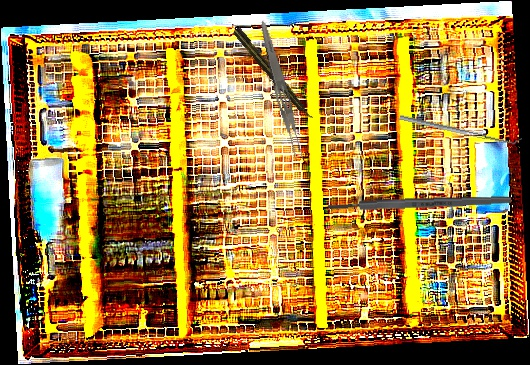Dressing Forceps: (253, 19, 308, 164)
Handpiece: (231, 26, 316, 123)
Scalpel Handle: (327, 194, 512, 213)
Spatula Surgical: (399, 110, 522, 148)
